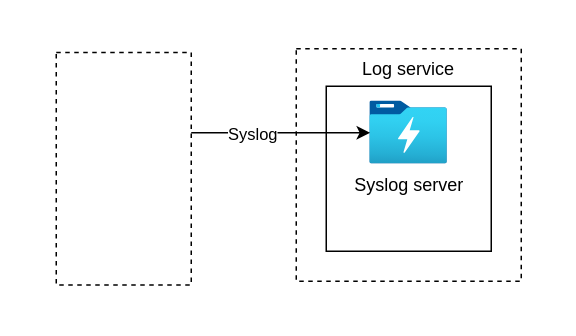
This 576x336 diagram has some shape labels left out. The shapes that lost their labels are listed below. From the top down, each one's box as (x1, y1, x2, y2) in pixels, then its label:
(55, 51, 191, 285): Any networks
(325, 85, 491, 251): BACKEND
